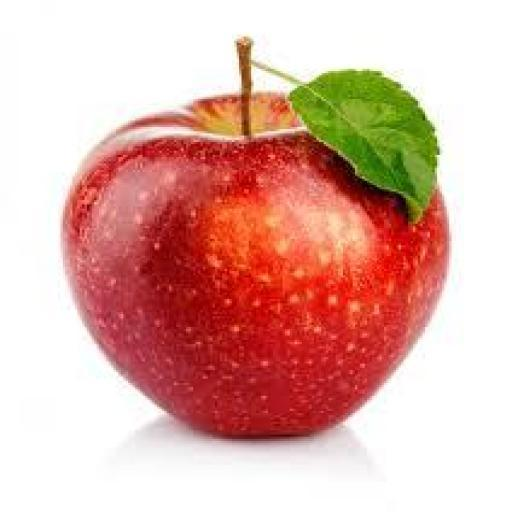apple: (63, 93, 449, 436)
